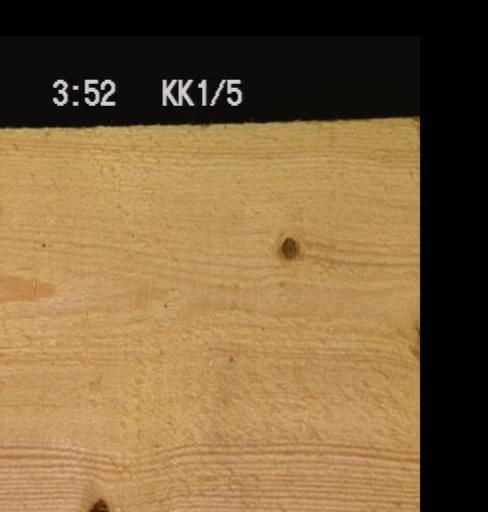sound_knot: (280, 234, 299, 259)
